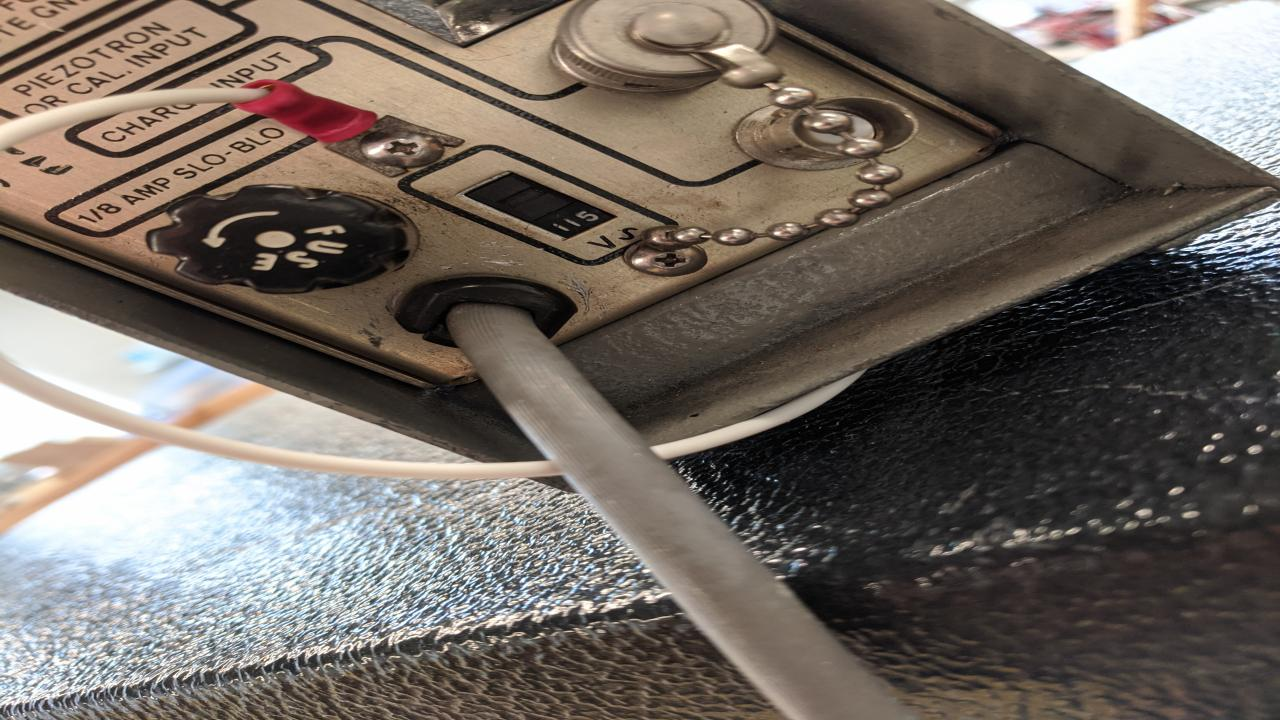CRS: (627, 238, 704, 272), (366, 133, 443, 167)
